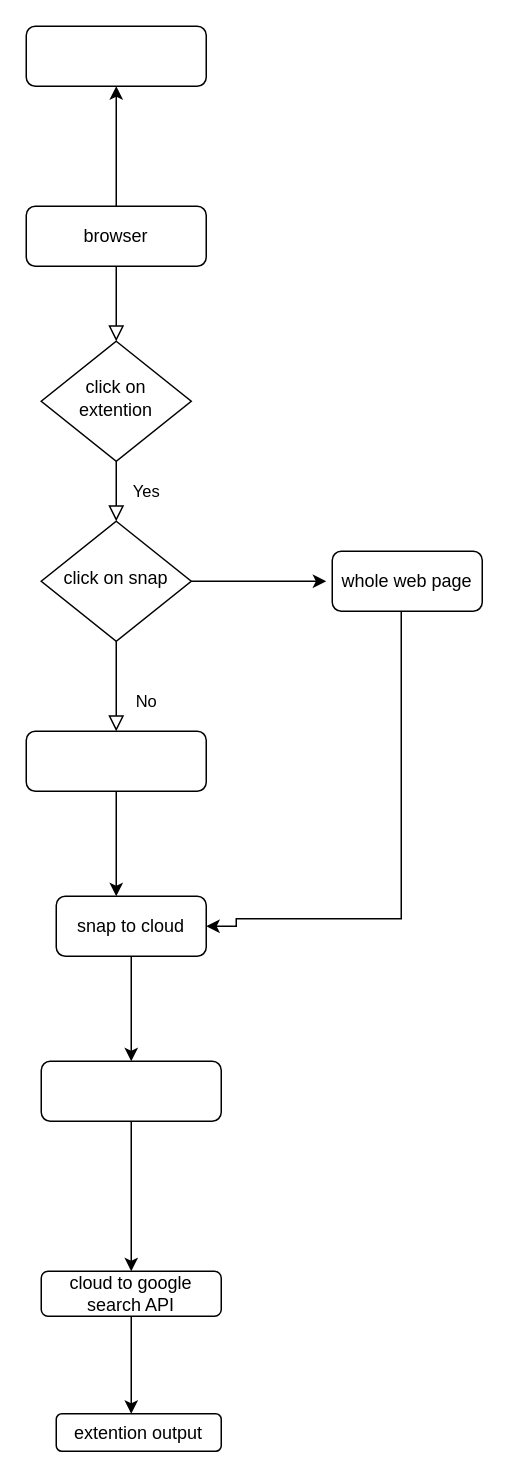
Some shapes in this 509 by 1478 pixel diagram are drawn without their labels. The shapes that lost their labels are listed below. From the top down, each one's centre as x and y in pixels, then its label:
At point 115,55: "start".
At point 115,760: "particular image or artical".
At point 130,1090: "cloud to vision API".
